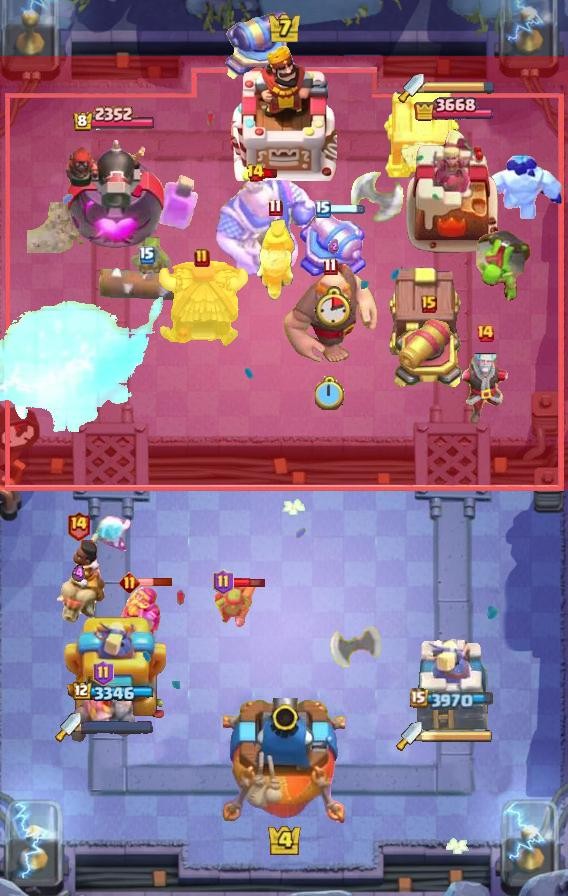balloon: (280, 264, 380, 368)
bar: (403, 124, 503, 256), (62, 611, 166, 731), (416, 637, 490, 731)
bar-level: (473, 225, 533, 301)
bat: (89, 515, 133, 551)
bomb: (382, 86, 462, 180), (386, 264, 466, 358)
electro-spirit: (72, 565, 84, 583), (328, 239, 339, 254)
elite-barbarian: (50, 539, 106, 627), (254, 219, 296, 301)
elixir: (314, 287, 352, 329), (315, 376, 345, 410)
emote: (329, 203, 367, 215), (231, 576, 266, 589), (138, 577, 174, 587), (261, 168, 279, 179)
firecracker-evolution: (118, 584, 164, 646)
fisherman: (27, 202, 89, 253)
giant-skeleton: (213, 174, 320, 276)
giant-snowball: (215, 578, 257, 630)
king-tower: (223, 698, 345, 826), (231, 43, 337, 181)
king-tower-bar: (424, 80, 496, 94), (81, 720, 153, 734), (422, 729, 494, 743)
knight-evolution: (154, 173, 198, 230)
mega-knight: (0, 284, 163, 458)
minion: (97, 266, 197, 304)
mortar: (442, 347, 528, 425)
prince: (155, 259, 249, 349)
rage: (478, 151, 564, 219)
royal-giant: (349, 161, 405, 223), (330, 626, 382, 686)
royal-recruit: (223, 0, 295, 84), (298, 207, 369, 283), (393, 318, 465, 392)
selected: (414, 95, 494, 126), (72, 107, 156, 134), (410, 688, 496, 710), (72, 681, 155, 702)
text: (66, 511, 91, 542), (213, 569, 234, 595), (94, 660, 115, 686), (119, 572, 140, 593), (475, 323, 495, 343), (246, 163, 265, 183), (194, 248, 210, 268), (315, 200, 331, 218), (139, 246, 155, 264), (421, 295, 437, 313), (268, 199, 283, 217), (323, 257, 337, 275)
tower-bar: (60, 132, 167, 256)
valkyrie-evolution: (70, 689, 136, 749)
zap: (129, 237, 173, 279)
